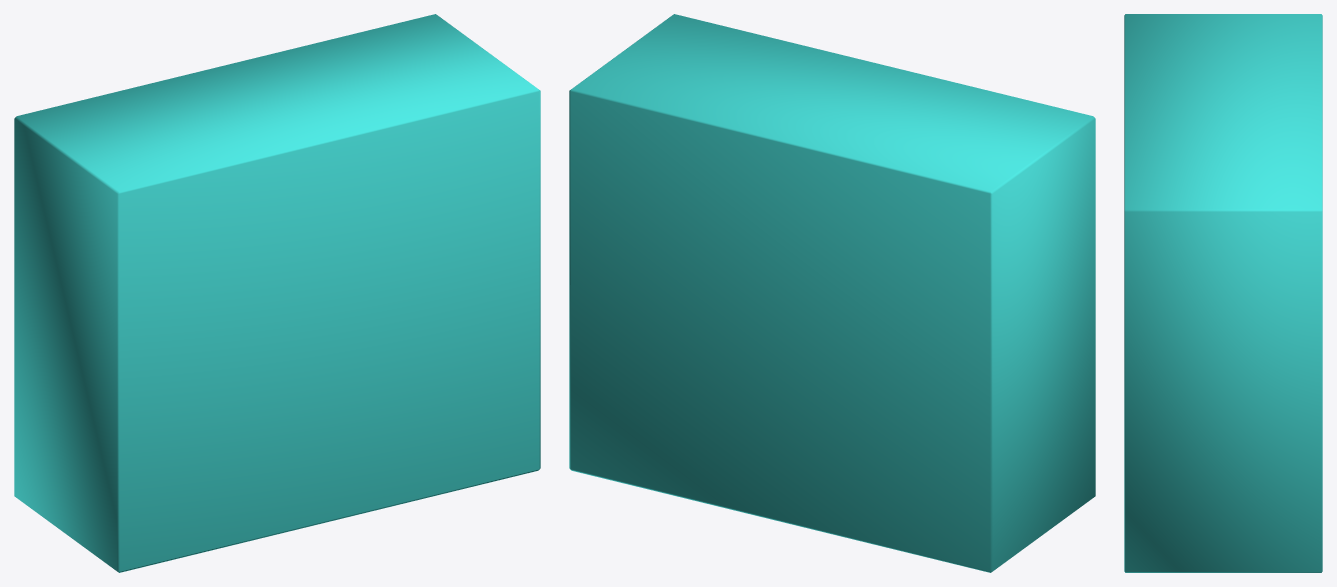
File: GelatoMix500g.fbx
The picture shows the model from 3 angles, left to right: view 1: azimuth 30°, elevation 25°; view 2: azimuth 150°, elevation 25°; view 3: azimuth 270°, elevation 25°; orthographic projection. The views are drawn at different scales.
Visible parts, largest first — view 1: CornettoBox; view 2: CornettoBox; view 3: CornettoBox.
Boxes of the visible parts, x1,y1,x2,y2 form: CornettoBox: [14, 14, 540, 572]; CornettoBox: [569, 14, 1095, 572]; CornettoBox: [1124, 14, 1322, 572].
Bounding box in the file's own units: 470 × 405 × 200.
